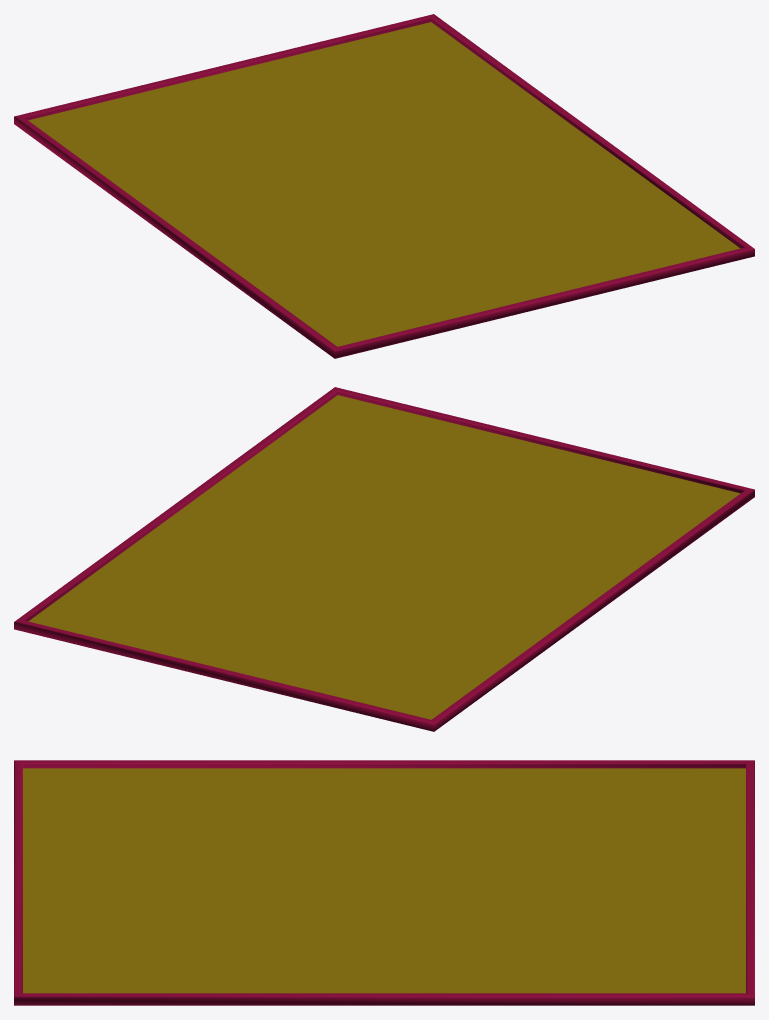
File: Painting.obj
The picture shows the model from 3 angles, top to bottom: view 1: azimuth 30°, elevation 25°; view 2: azimuth 150°, elevation 25°; view 3: azimuth 270°, elevation 25°; orthographic projection. The views are drawn at different scales.
Visible parts, largest first — view 1: Picture, Frame; view 2: Picture, Frame; view 3: Picture, Frame.
Part boxes in pixels (x1,y1,x2,y2): Picture: [28, 22, 740, 346]; Frame: [14, 14, 754, 358]; Picture: [28, 395, 740, 719]; Frame: [14, 387, 754, 731]; Picture: [23, 768, 745, 993]; Frame: [14, 760, 754, 1005].
Size of the model in its own units: 310 by 5.66 by 410.
